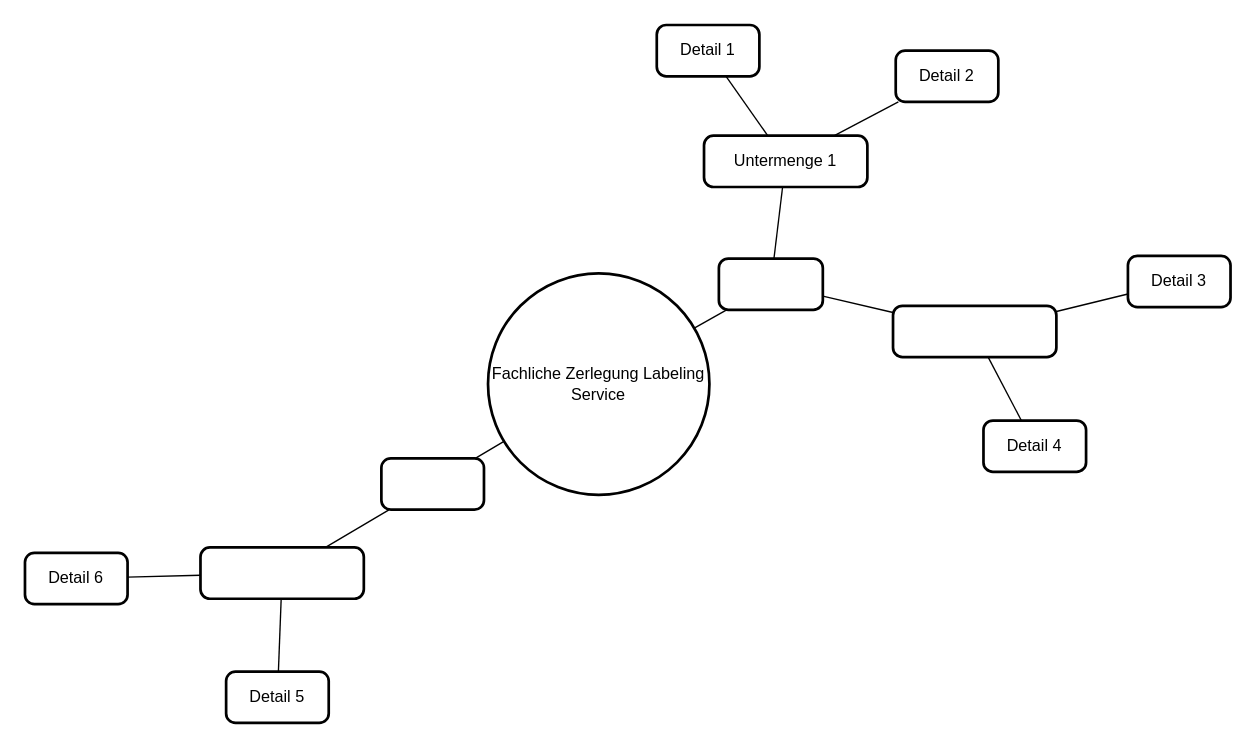
This 1254x747 diagram has some shape labels left out. The centre of each missing label's shape, as x and y in pixels:
"Modul A" belongs at (x=770, y=283).
"Modul B" belongs at (x=432, y=483).
"Untermenge 2" belongs at (x=974, y=331).
"Untermenge 3" belongs at (x=281, y=572).
